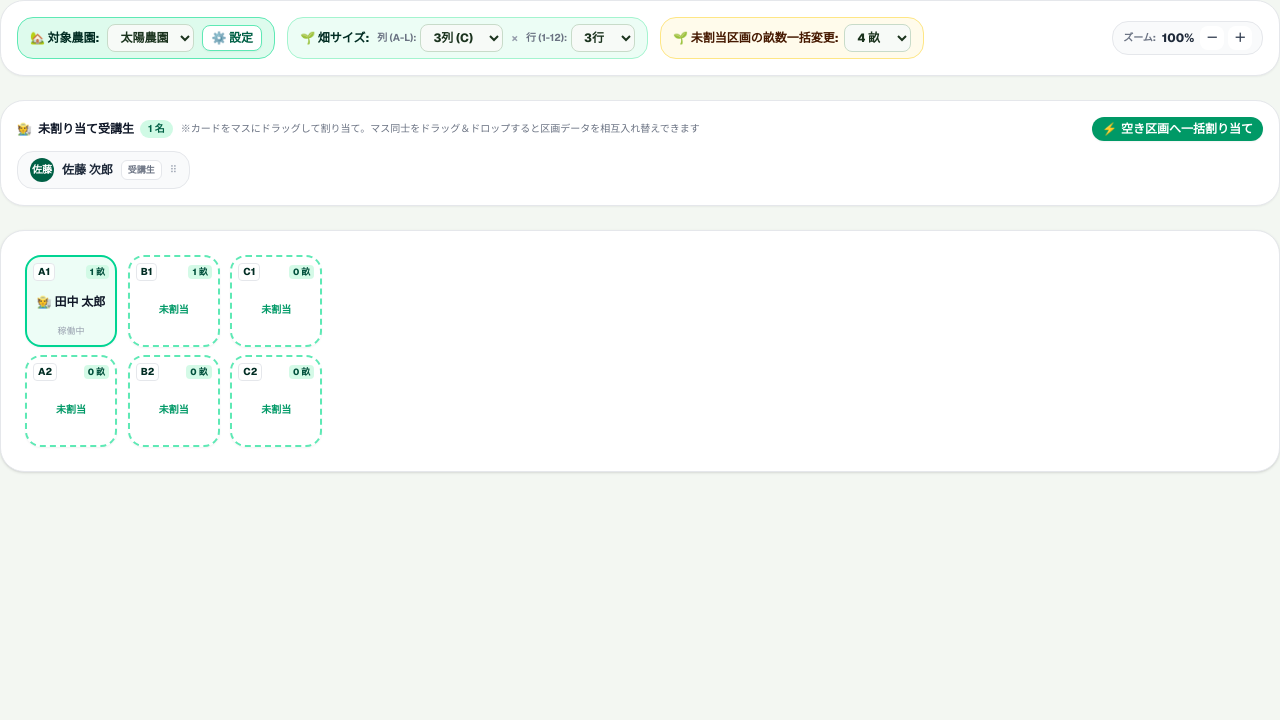
Scenario: PR-1: TeacherFarmCanvasView 特性テスト › 4 (異常系). 農園設定保存時に DB 更新が失敗するとエラートーストが出ること
Click the button "⚙️ 設定".
click(232, 38)  # box [202, 25, 262, 51]
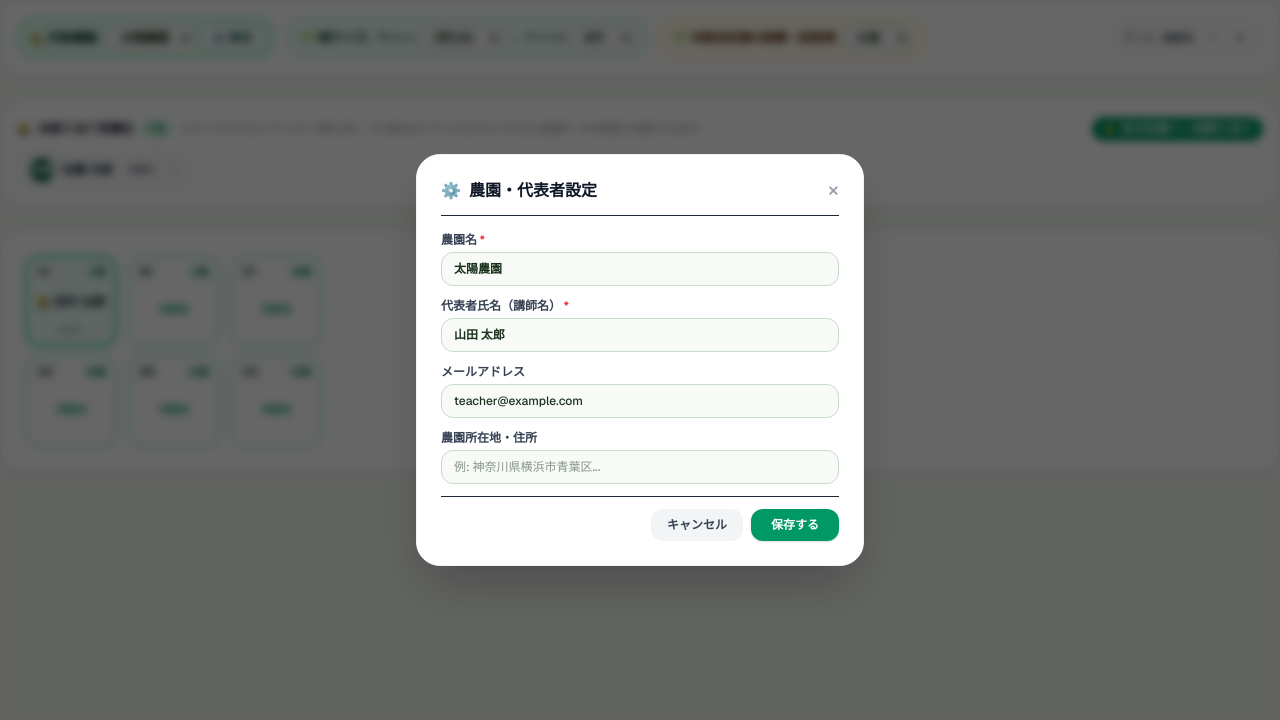
Expected: the text "農園・代表者設定" is shown, [469, 179, 597, 203]
Click the button "保存する".
click(795, 525)  # box [751, 509, 839, 541]
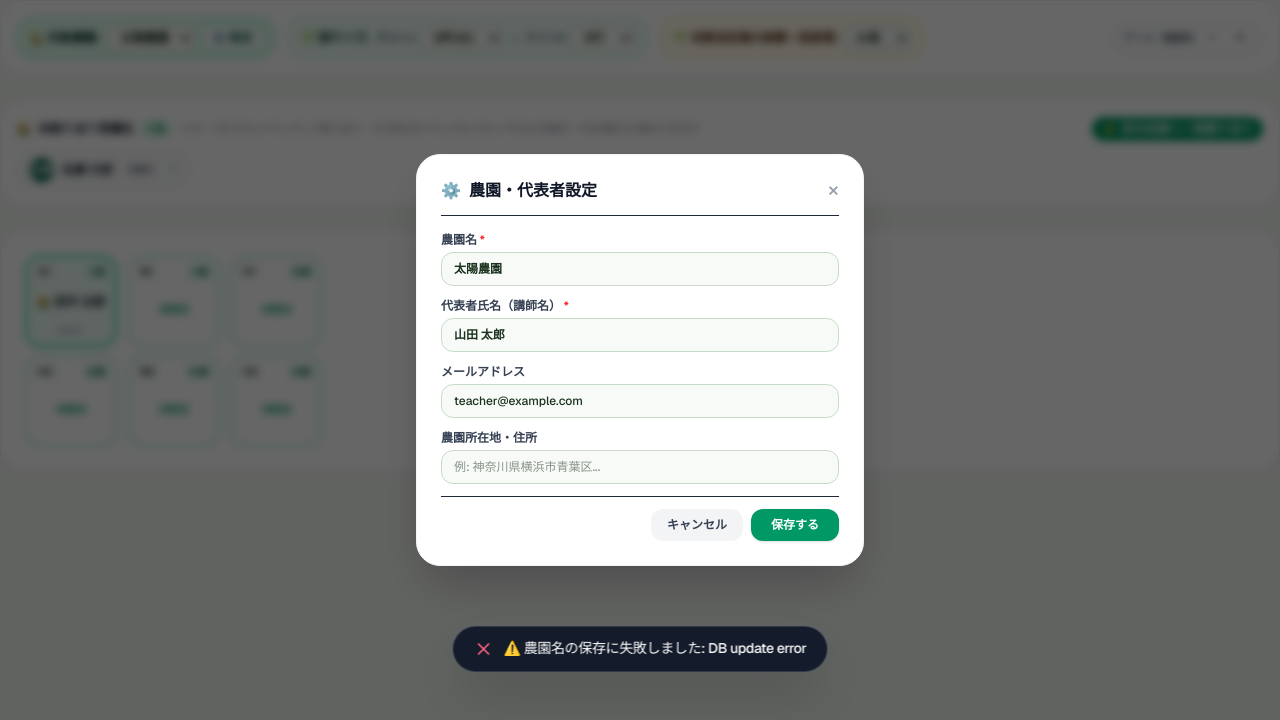
Expected: the text "⚠️ 農園名の保存に失敗しました: DB update error" is shown, [504, 639, 806, 659]
